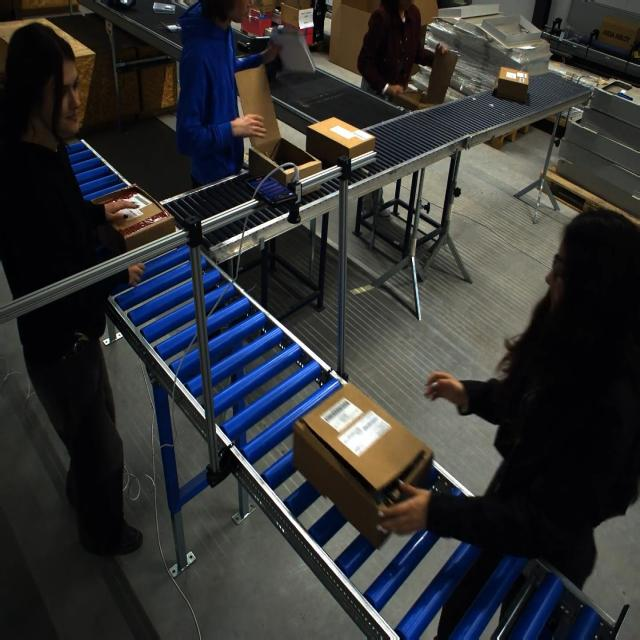box: (290, 383, 445, 550), (234, 61, 319, 187), (93, 183, 175, 252), (397, 44, 458, 111), (307, 116, 370, 172)
product: (153, 2, 177, 14), (162, 22, 182, 32)
